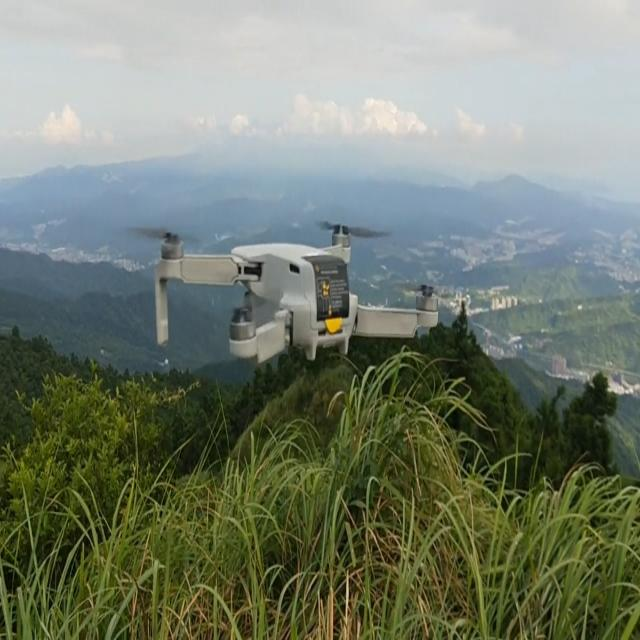Drone: (154, 222, 455, 368)
